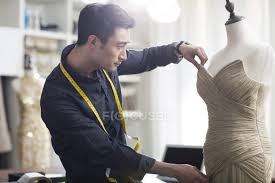asian_male: (72, 4, 138, 75)
